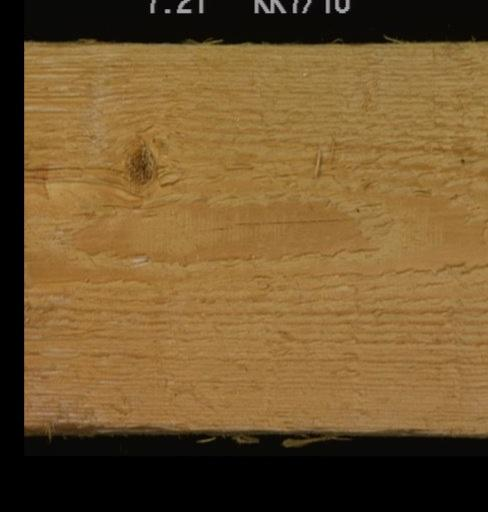sound_knot: (121, 138, 159, 190)
split: (206, 205, 371, 230), (24, 151, 123, 179)
wave: (24, 411, 194, 436)
